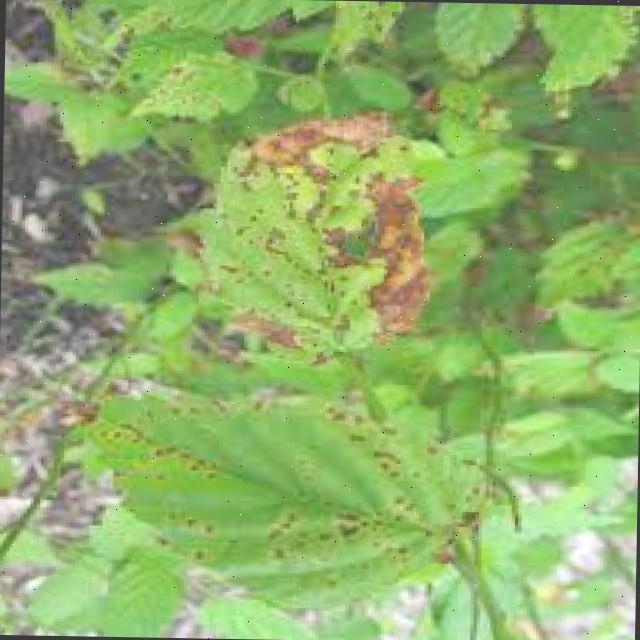leaf spot: (92, 378, 478, 606), (176, 97, 477, 362)
